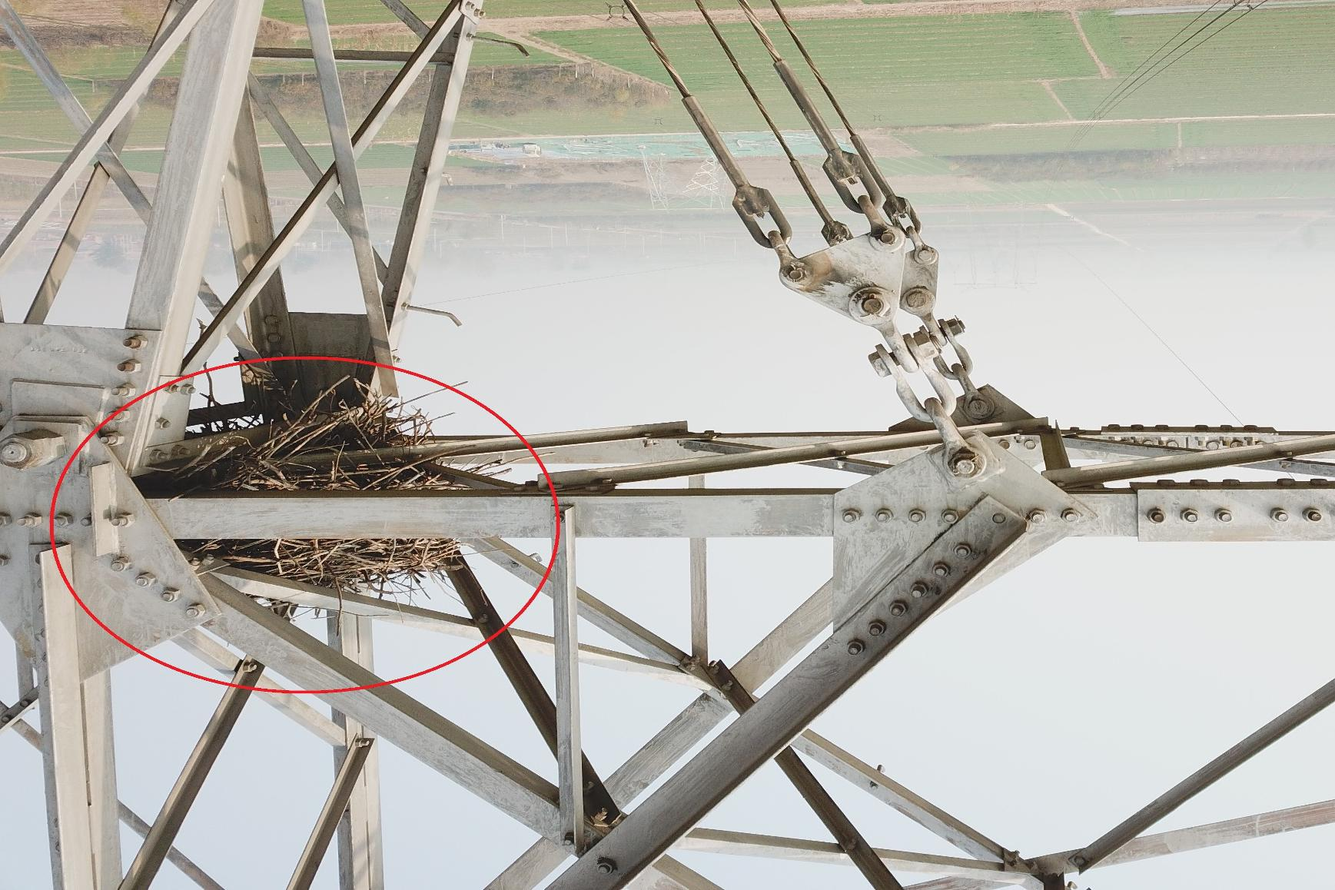nest: (141, 351, 501, 616)
